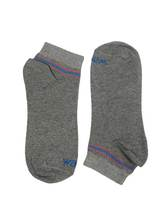sock: (18, 41, 86, 186), (86, 40, 150, 184)
